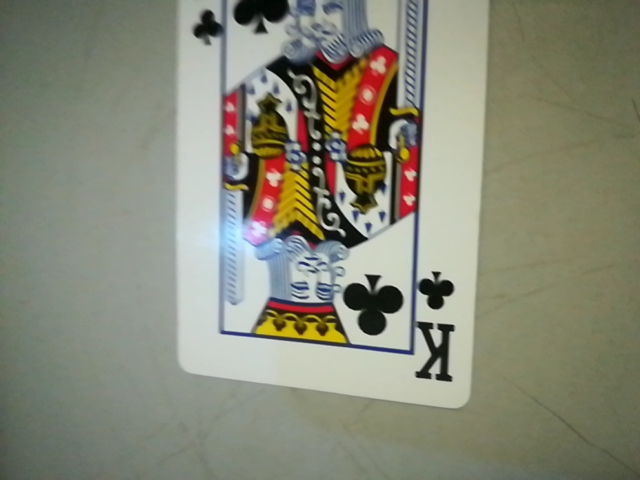mh k: (408, 266, 469, 393)
